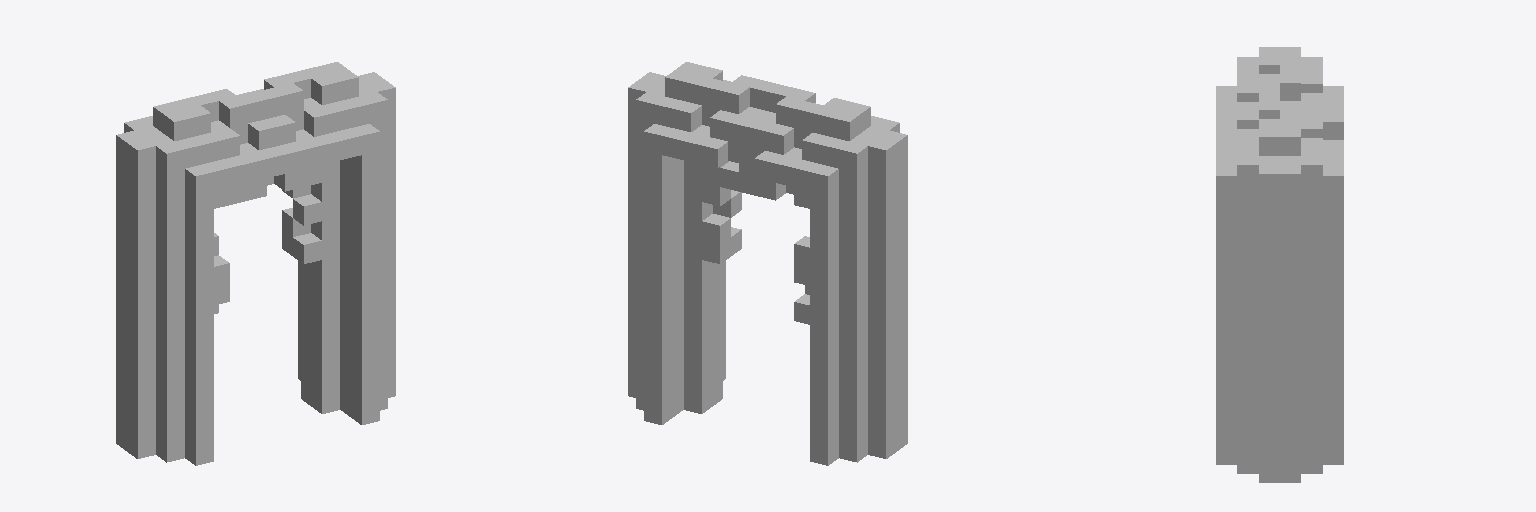
Rendered from monument.obj.
3 renders of one model, left to right at view 1: azimuth 30°, elevation 25°; view 2: azimuth 150°, elevation 25°; view 3: azimuth 270°, elevation 25°, orthographic.
Bounding box in the file's own units: 14 × 17 × 6.